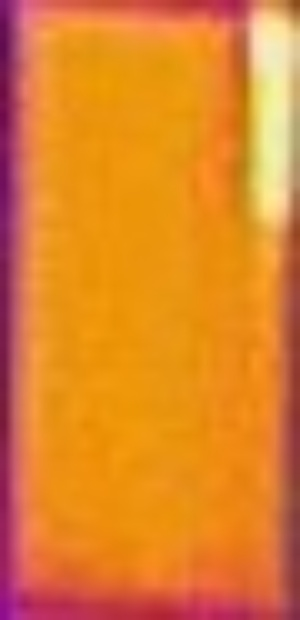Diode: (242, 1, 299, 243)
